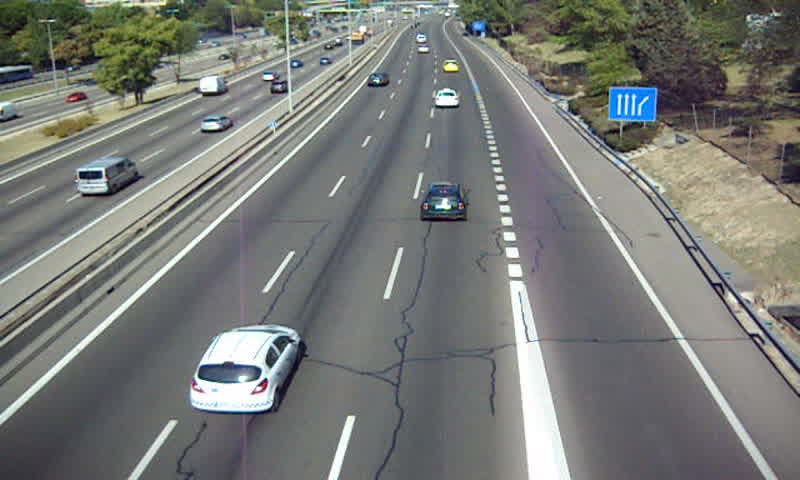car: (189, 324, 302, 416), (421, 181, 469, 218), (435, 88, 458, 107), (366, 73, 389, 87)
